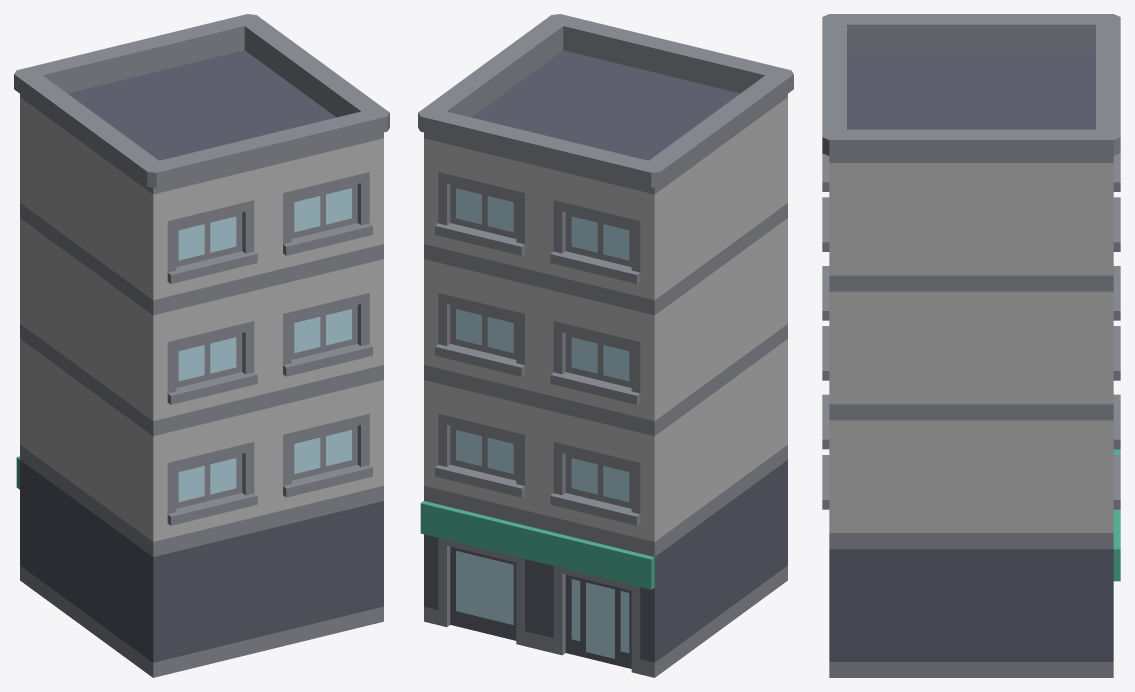
The model's file is poly-large-building.glb.
3 renders of one model, left to right at view 1: azimuth 30°, elevation 25°; view 2: azimuth 150°, elevation 25°; view 3: azimuth 270°, elevation 25°, orthographic. The views are drawn at different scales.
Visible parts, largest first — view 1: large_buildingB; view 2: large_buildingB; view 3: large_buildingB.
Part boxes in pixels (box(x1,y1,x2,y2)): large_buildingB: box(14, 14, 389, 677); large_buildingB: box(418, 14, 793, 677); large_buildingB: box(822, 14, 1120, 677).
Size of the model in its own units: 0.8401 by 1.68 by 0.8401.
